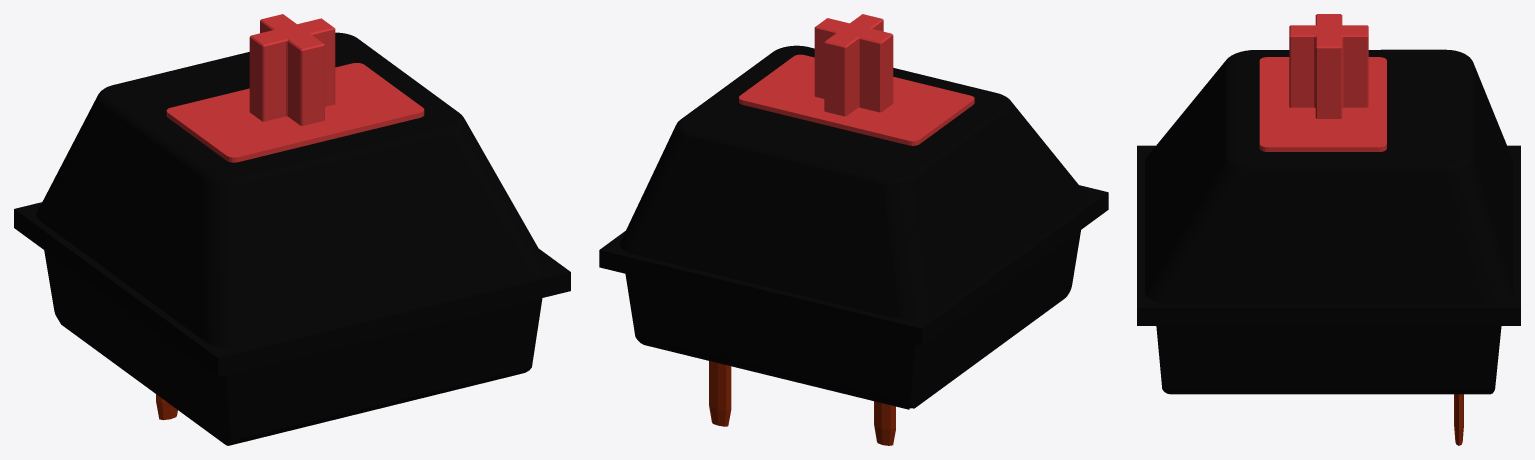
File: mxred.glb
The picture shows the model from 3 angles, left to right: view 1: azimuth 30°, elevation 25°; view 2: azimuth 150°, elevation 25°; view 3: azimuth 270°, elevation 25°; orthographic projection. The views are drawn at different scales.
Parts seen in each view (by area): view 1: Switch; view 2: Switch; view 3: Switch.
Boxes of the visible parts, bbox=[...] form: Switch: bbox=[14, 14, 570, 445]; Switch: bbox=[599, 14, 1108, 445]; Switch: bbox=[1137, 14, 1520, 445].
Size of the model in its own units: 0.0145 by 0.0157 by 0.0145.
